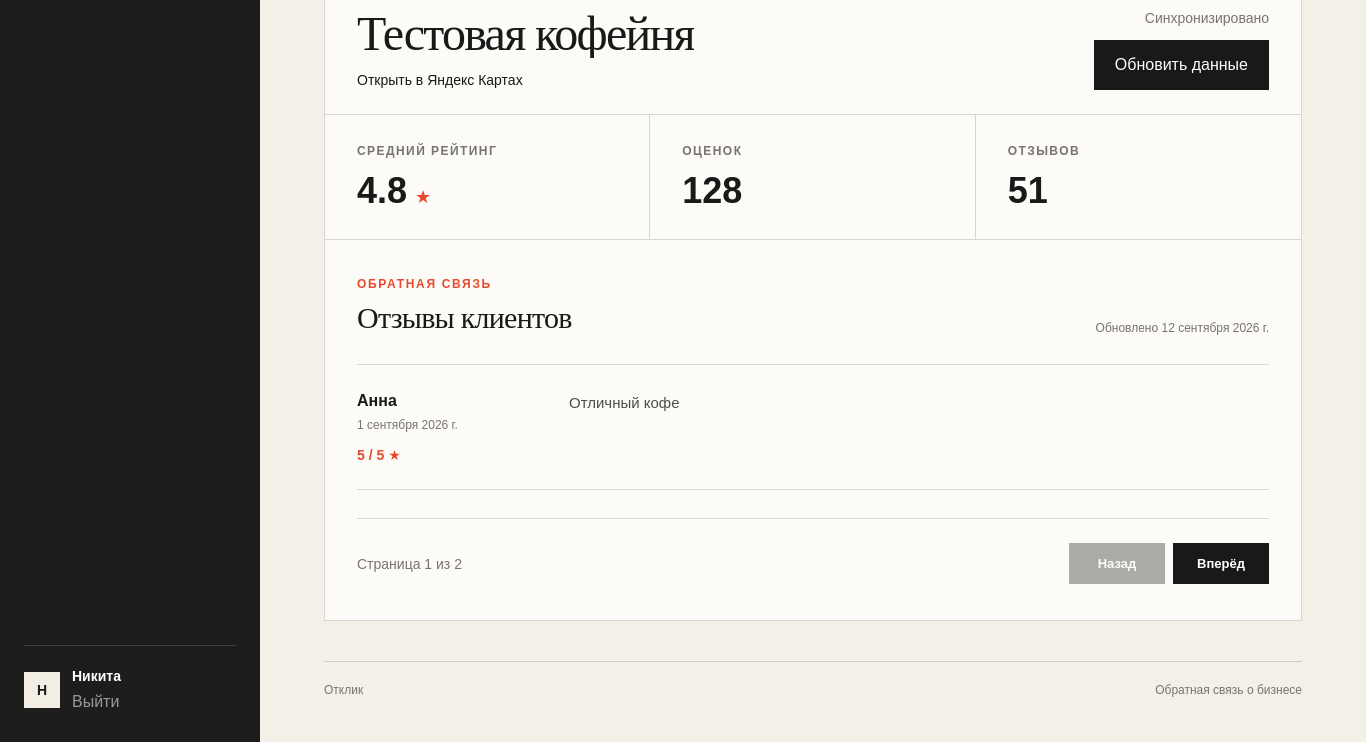
Test case: просмотр отзывов › переключает страницу без перезагрузки
(page scrolled)
Click the button "Вперёд": (1221, 564) [1173, 543, 1269, 584]
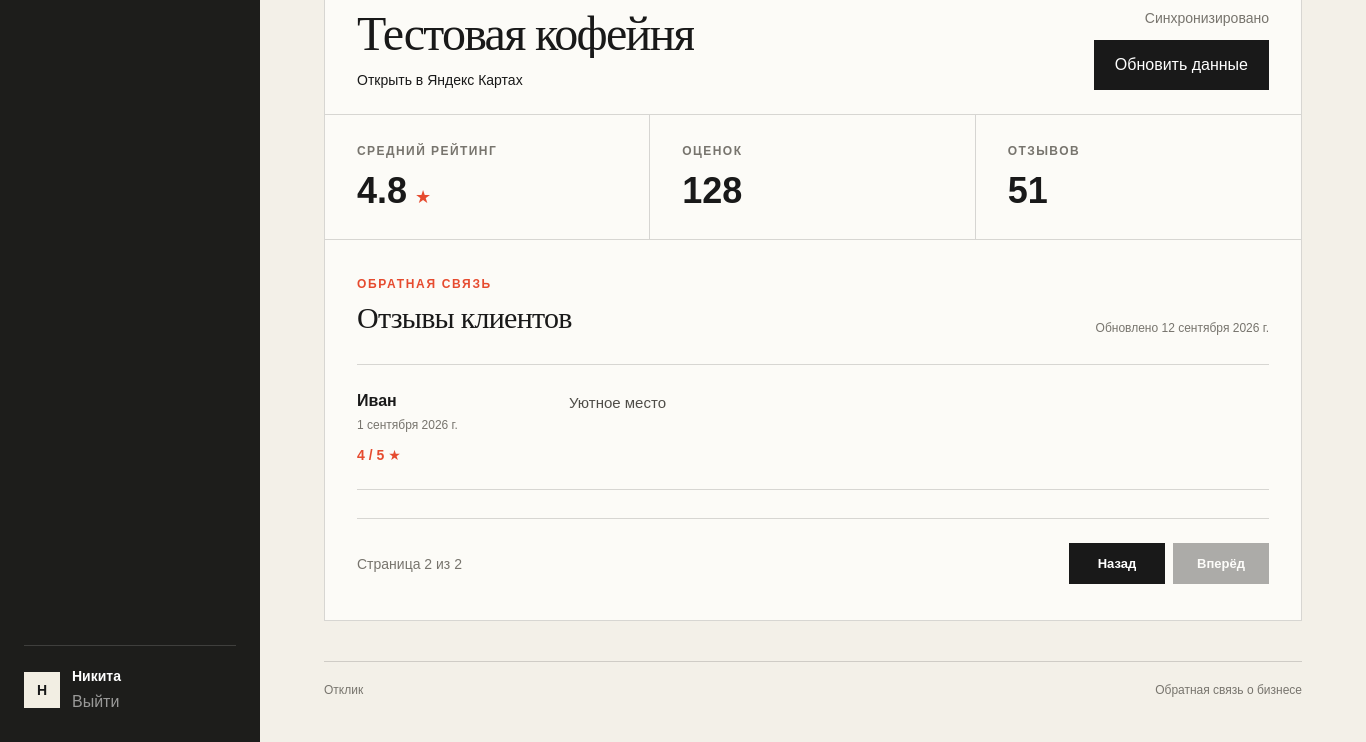
Expected: the text "Иван" is shown, [357, 392, 397, 409]
Expected: the text "Уютное место" is shown, [569, 394, 666, 411]
Expected: the text "Страница 2 из 2" is shown, [357, 554, 462, 574]
